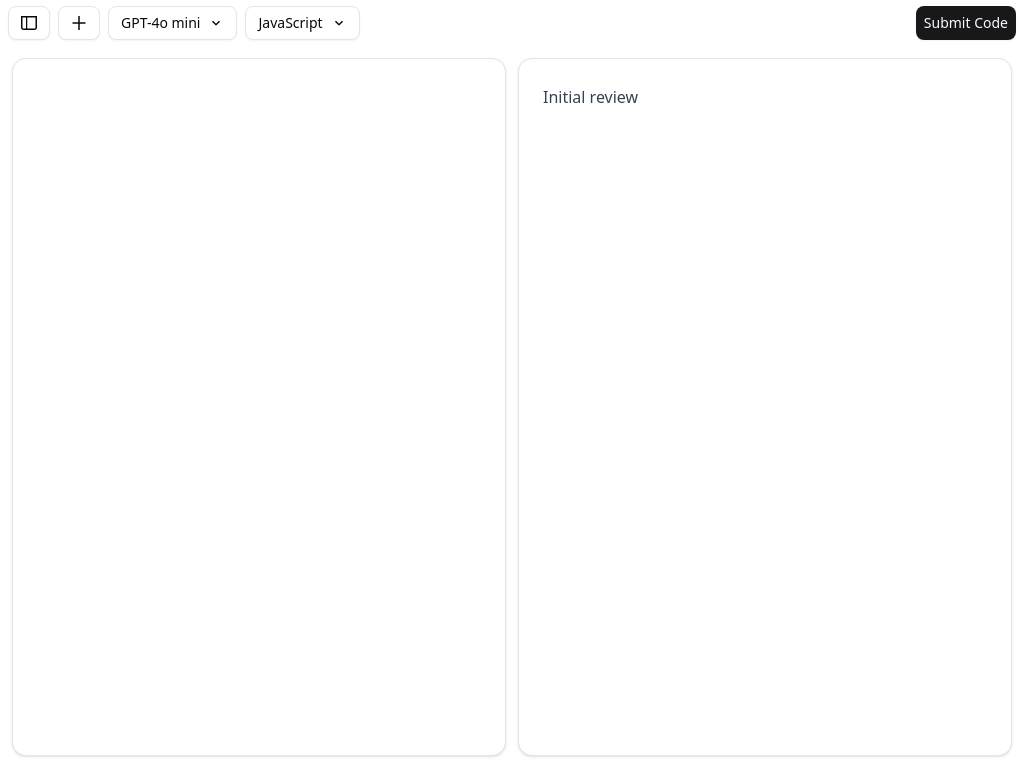
Test: Review Component › renders initial code and review, sends code using online model
Expected: the text "Initial review" is shown, [543,86,638,108]
Click the button "Submit Code".
click(966, 23)  # box [916,6,1016,40]
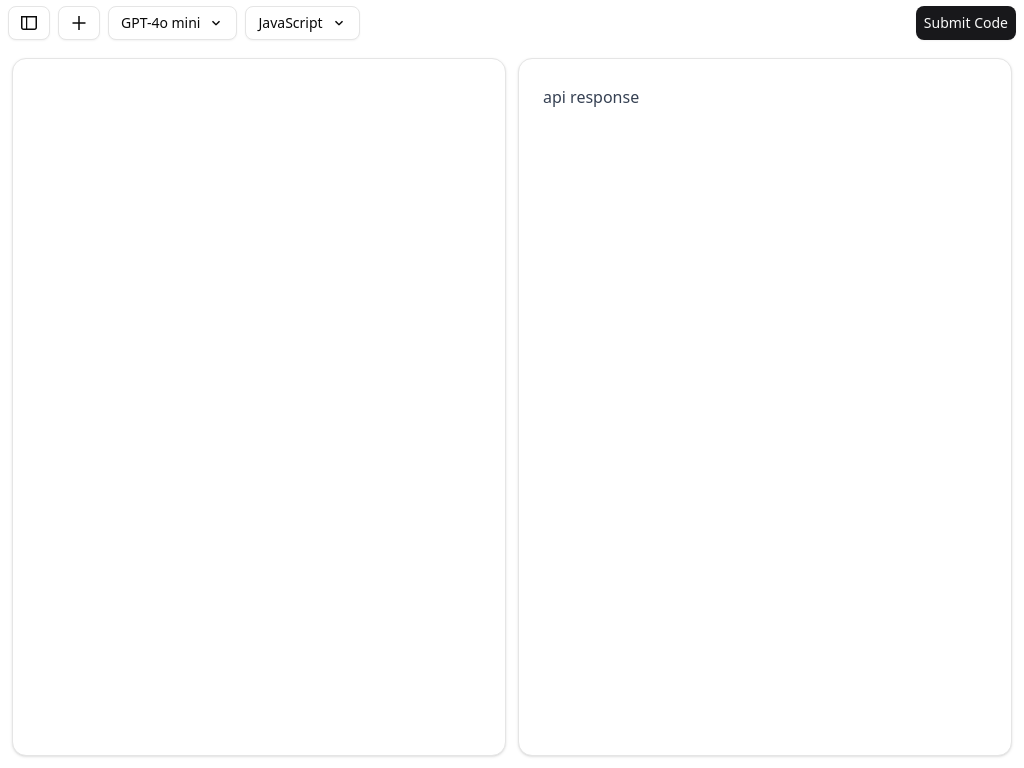
Expected: the text "api response" is shown, [543,86,639,108]
